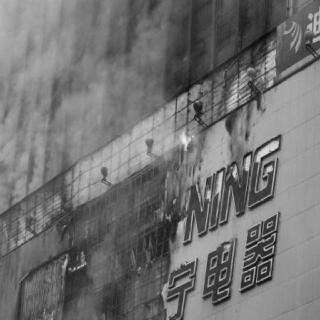Fire: (172, 121, 200, 161)
